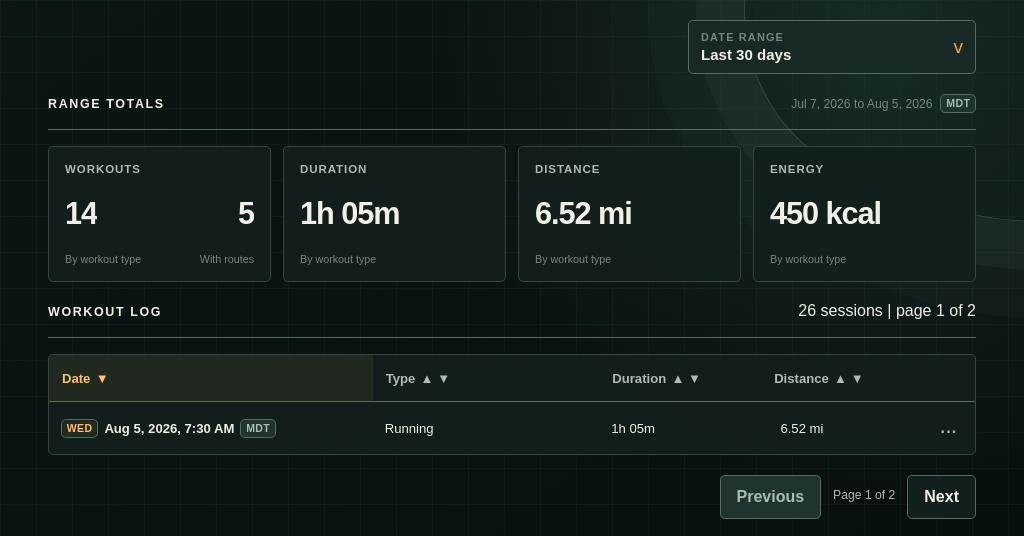
Test case: Summary › shows 5 routed workouts beside the 14 workout total
Expected: the text with class "aggregate-routed-label" reads "With routes", 200,253 -> 254,265
Expected: the text "With routes" is shown once, 200,253 -> 254,265
Click the button "Workouts 14 5 By workout type With routes": (160, 214) 48,146 -> 271,282
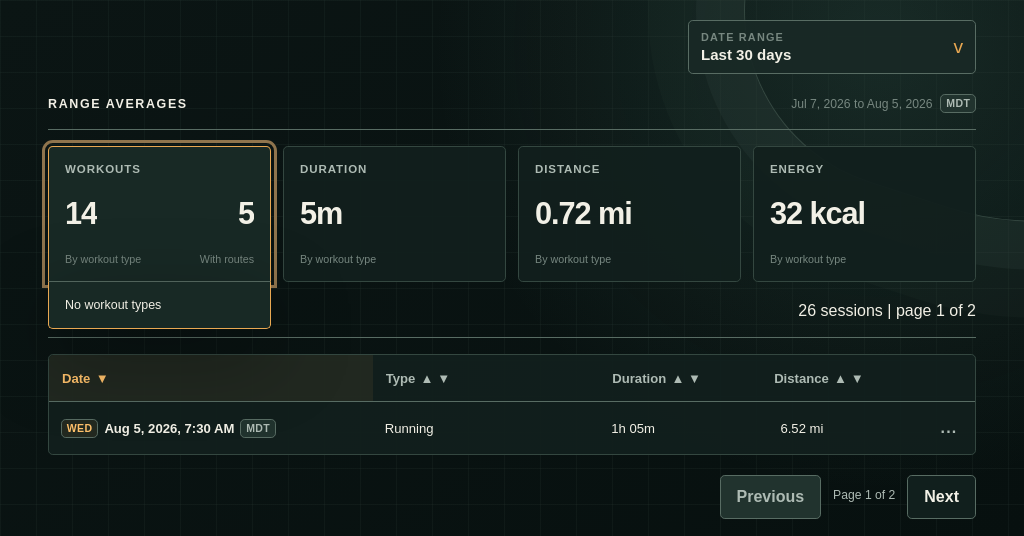
Now the heading "Range averages" is shown, box 48,97 -> 188,111
